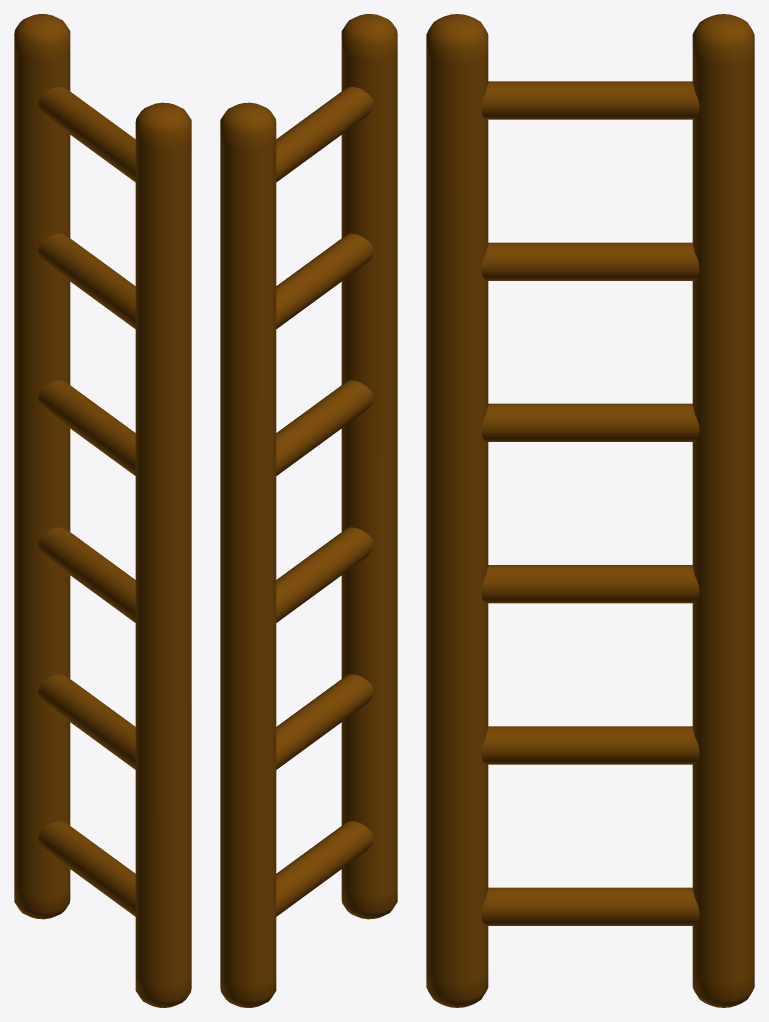
The model's file is Escada.glb.
The picture shows the model from 3 angles, left to right: view 1: azimuth 30°, elevation 25°; view 2: azimuth 150°, elevation 25°; view 3: azimuth 270°, elevation 25°; orthographic projection. The views are drawn at different scales.
Parts seen in each view (by area): view 1: Ladder 2; view 2: Ladder 2; view 3: Ladder 2.
Part boxes in pixels (x1=…): Ladder 2: x1=14, y1=14, x2=191, y2=1007; Ladder 2: x1=220, y1=14, x2=397, y2=1007; Ladder 2: x1=426, y1=14, x2=754, y2=1007.
Size of the model in its own units: 0.2226 by 3.88 by 1.17.
